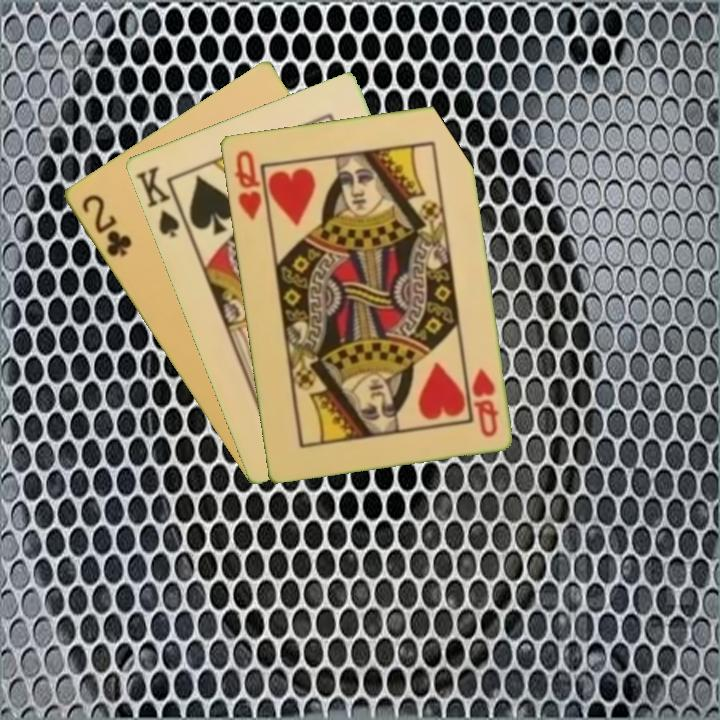2c: (77, 190, 135, 260)
Ks: (132, 162, 182, 241)
Qh: (467, 364, 501, 440), (231, 146, 264, 224)
